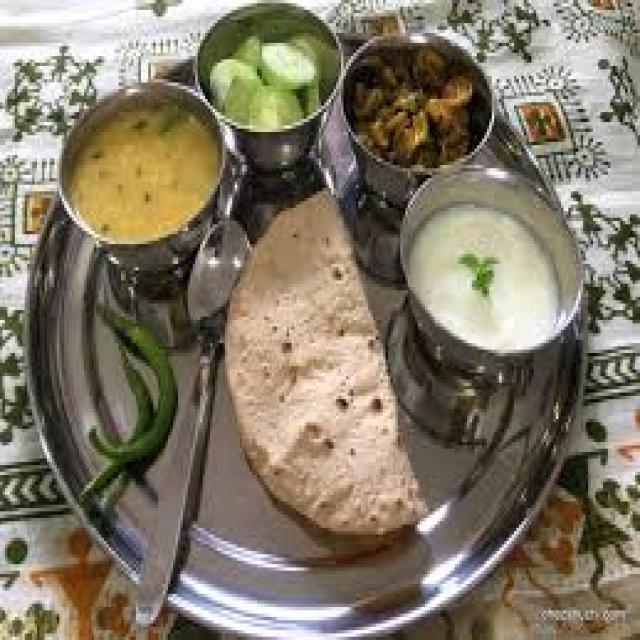curd: (395, 172, 581, 374)
dal: (59, 94, 219, 253)
rice: (0, 576, 72, 640)
roti: (215, 200, 400, 521)
veg-fry: (485, 481, 634, 636)
